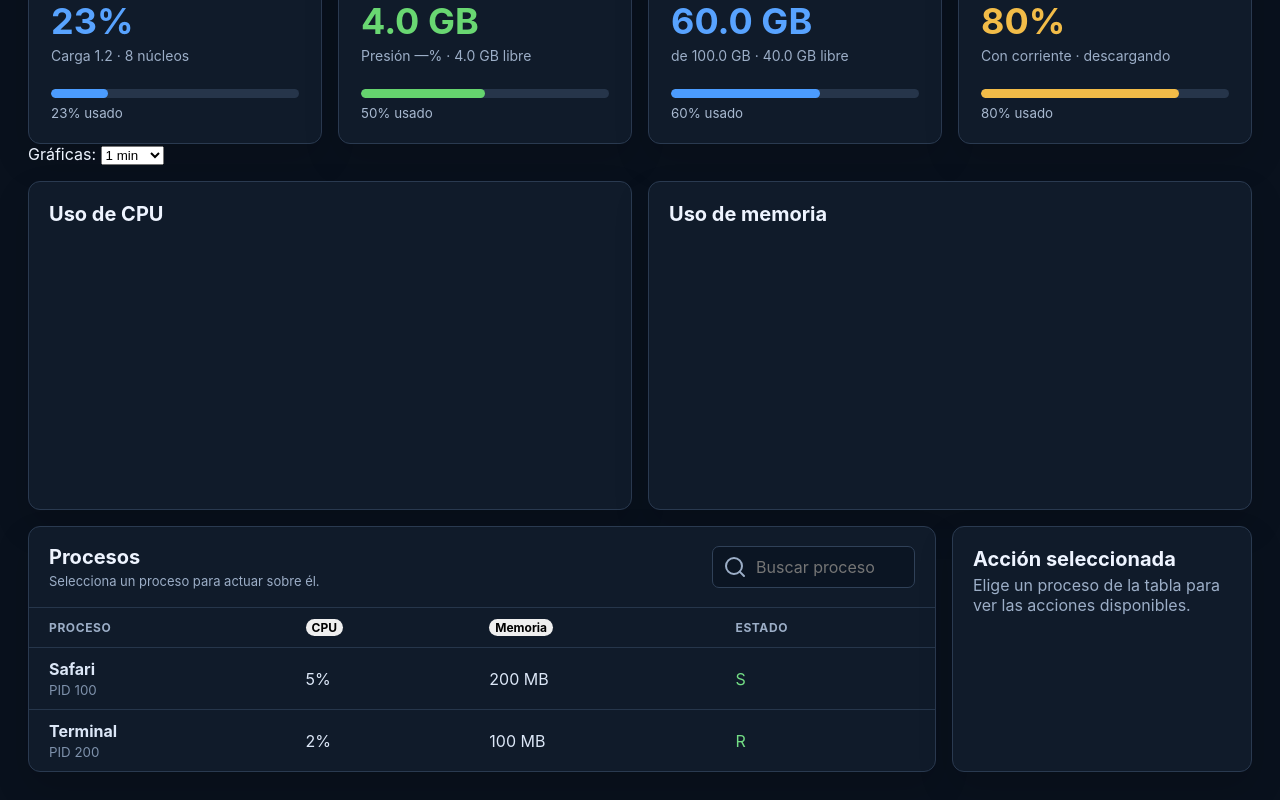
dashboard › renders live metric cards and filters processes
The width and height of the screenshot is (1280, 800).
(page scrolled)
Expected: the text "23%" is shown, [51,0,134,43]
Expected: the text "Con corriente · descargando" is shown, [981,47,1170,64]
Type "Terminal" into the field with placeholder "Buscar proceso" at (829, 567), box [754,556,904,578]
(page scrolled)
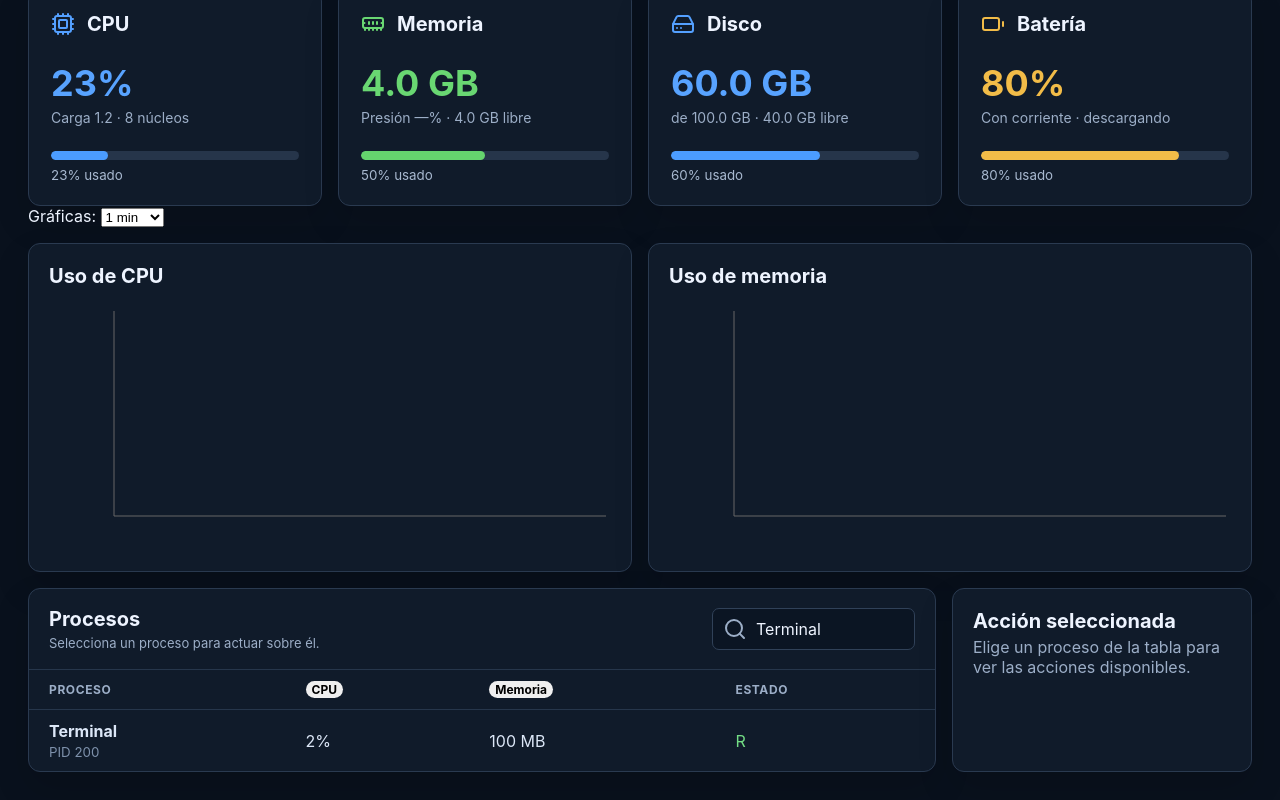
Expected: the text "Terminal" is shown, [49,721,117,741]
Expected: the text "Safari" is gone
